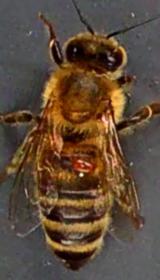varroa_mite: (66, 149, 96, 175)
